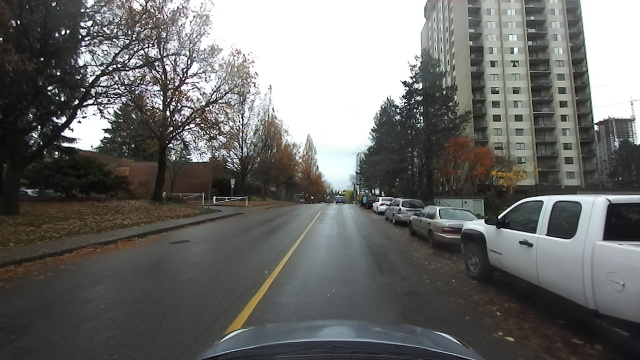car: (462, 189, 637, 350), (409, 201, 475, 249), (383, 194, 430, 226), (369, 193, 396, 216), (360, 192, 378, 211), (334, 194, 347, 206)
